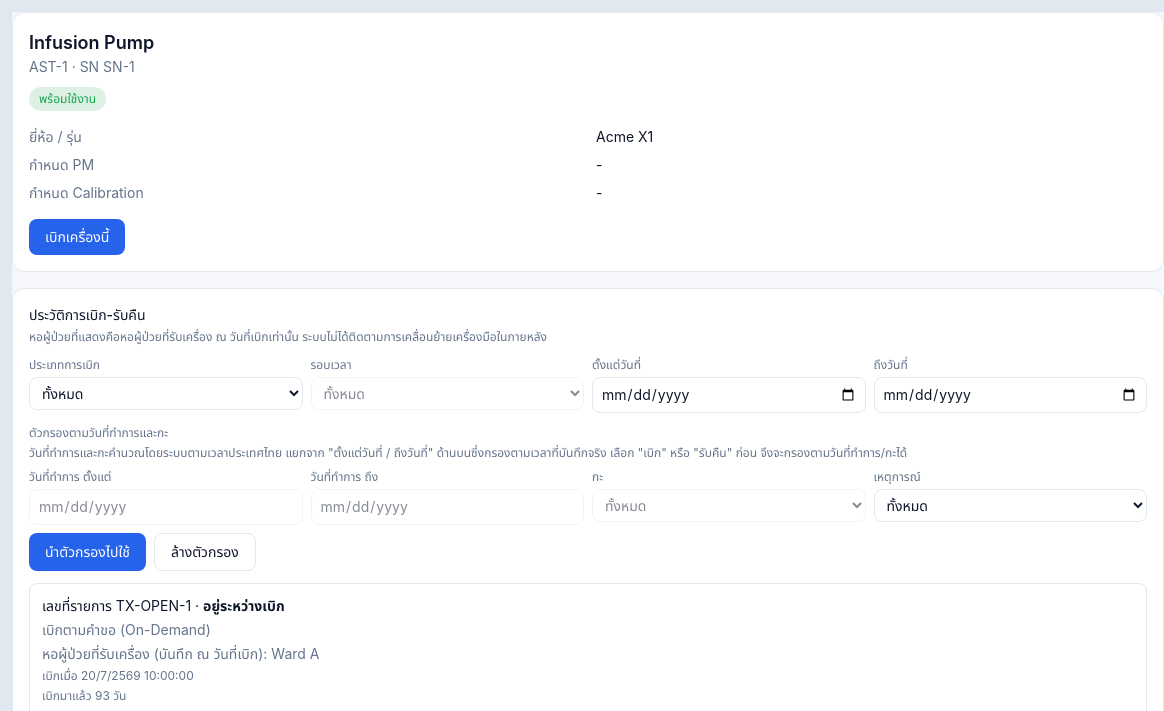
Test: EquipmentDetailPage business-date/shift filter controls (Roadmap PR16 Slice 4) › shows the existing empty-history state when a business-date/shift filter matches no rows
Expected: the text "TX-OPEN-1" is shown, [116,597,191,614]
Select "เบิก" in the dropdown labelled "เหตุการณ์" at coordinates (1010, 506), box [874,489,1147,522]
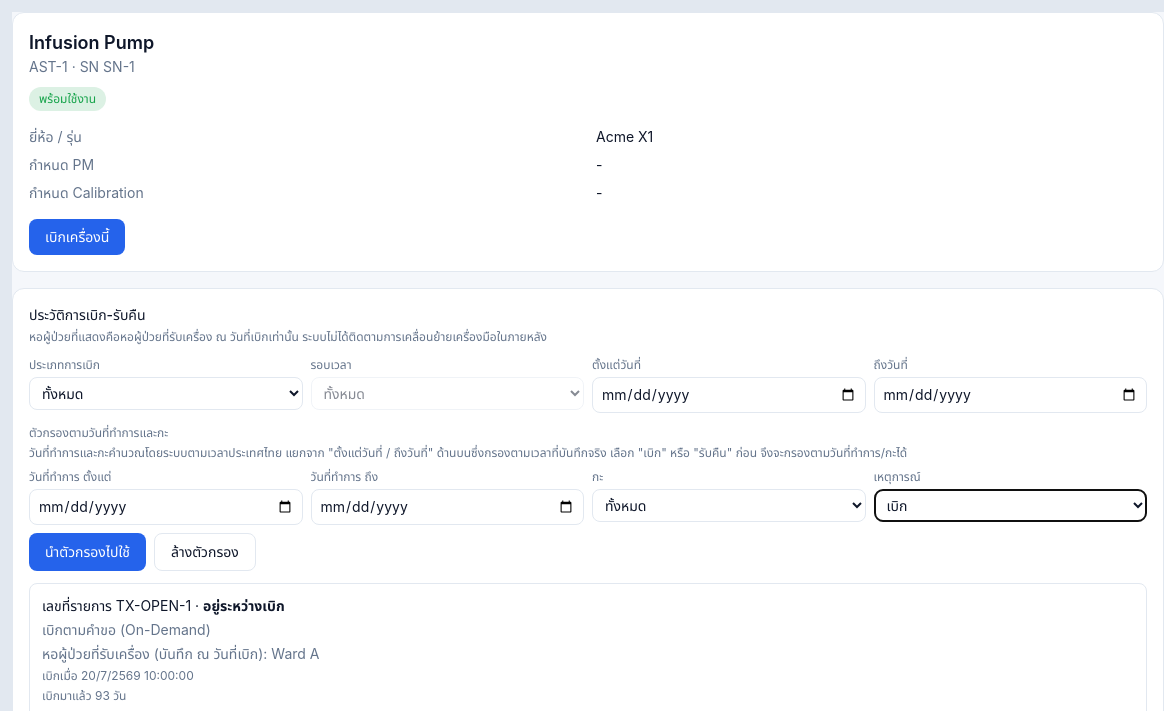
Type "2000-01-01" into the date field labelled "วันที่ทำการ ตั้งแต่" at coordinates (166, 507), box [29,489,302,525]
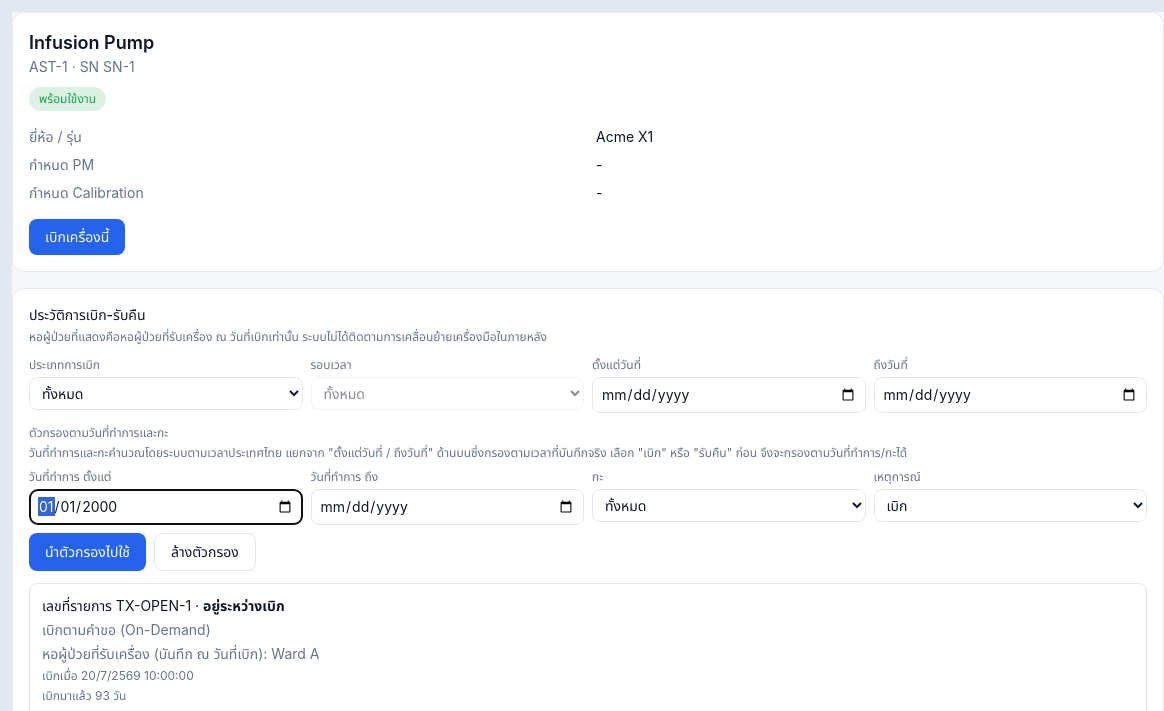
Type "2000-01-01" into the date field labelled "วันที่ทำการ ถึง" at coordinates (447, 507), box [310,489,584,525]
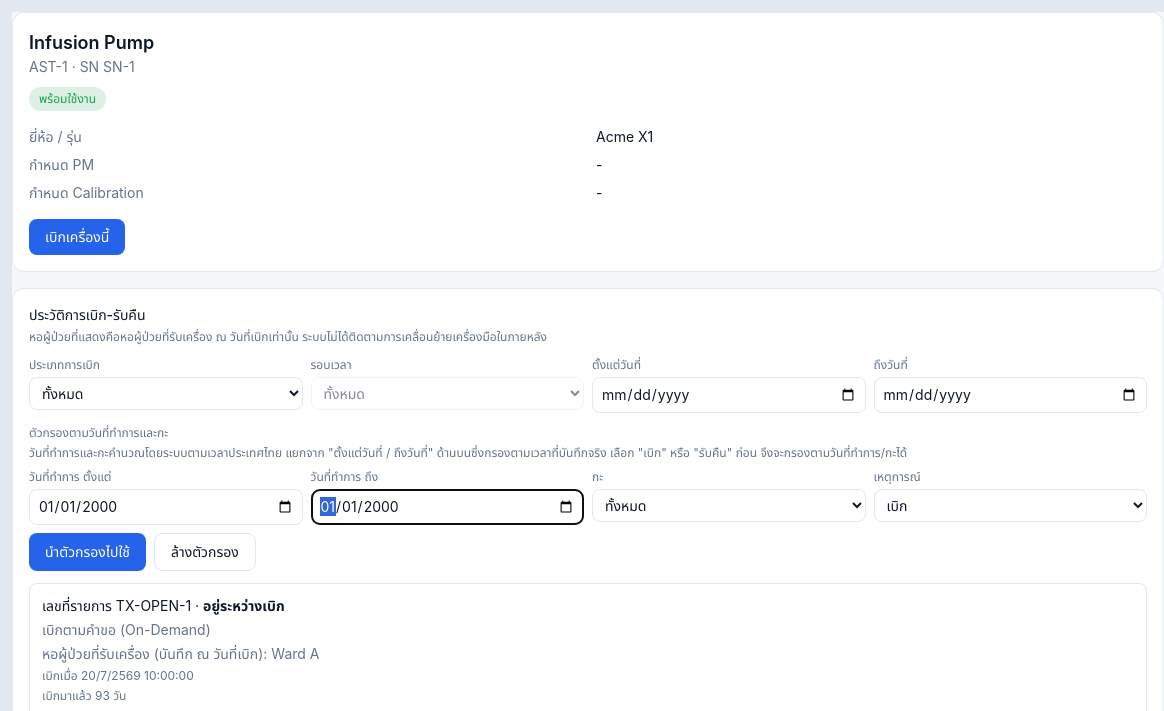
Click the button "นำตัวกรองไปใช้" at coordinates (88, 552), box [29,533,146,571]
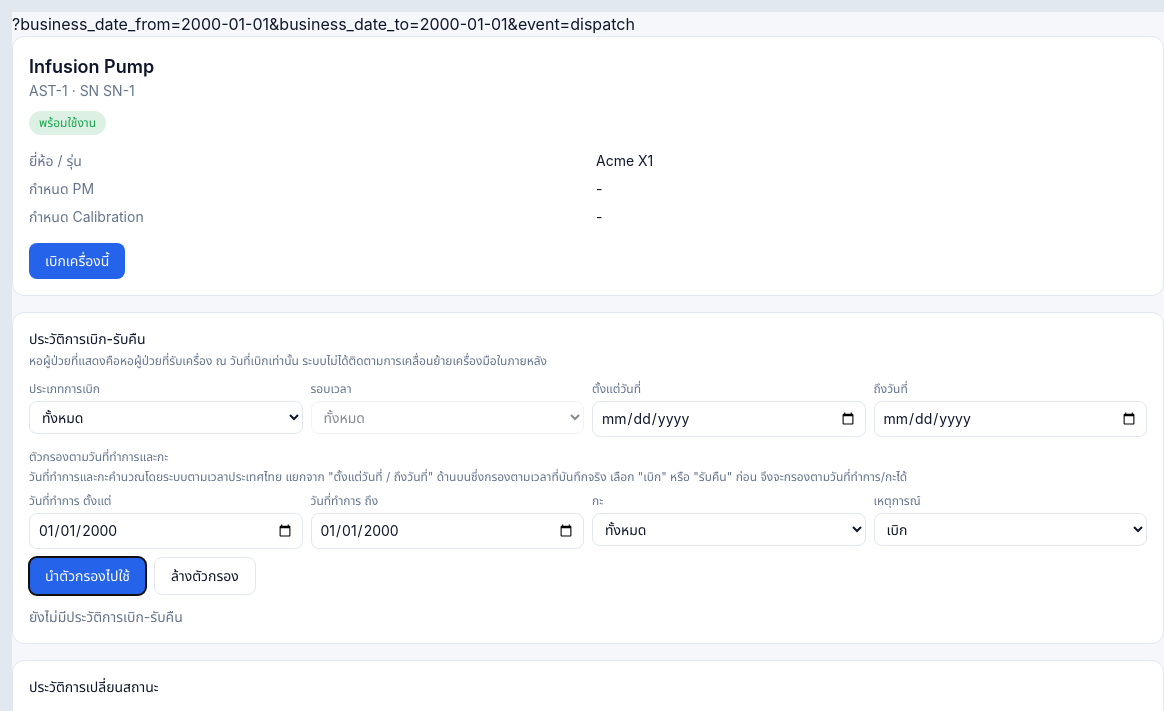
Now the list item "ยังไม่มีประวัติการเบิก-รับคืน" is shown, box [29,608,183,625]
